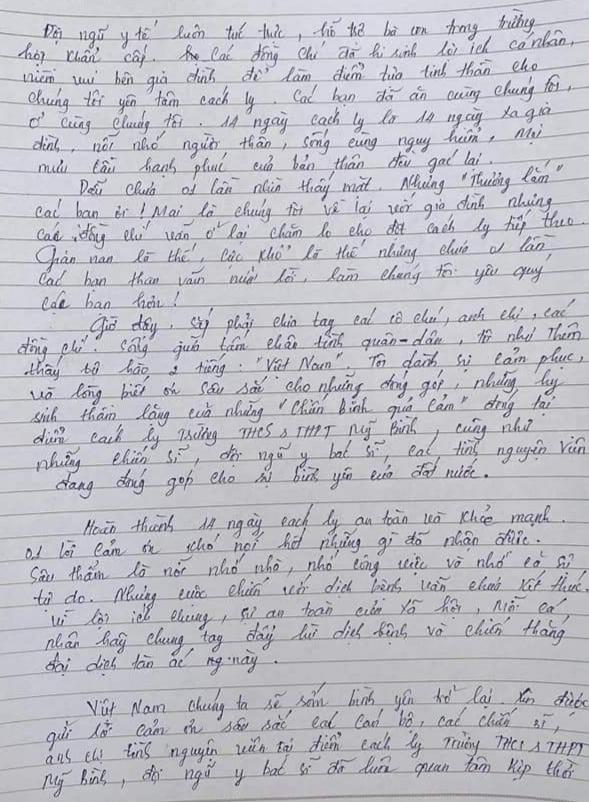text: (15, 318, 583, 365), (25, 71, 575, 117), (35, 568, 588, 613), (33, 208, 580, 252), (42, 705, 554, 752), (41, 755, 582, 798), (87, 295, 577, 342), (41, 616, 571, 659), (33, 436, 588, 477), (87, 679, 589, 724), (34, 232, 558, 275), (19, 27, 576, 67), (24, 367, 564, 408), (38, 5, 537, 49), (37, 253, 553, 295), (41, 730, 589, 769), (24, 53, 541, 94), (22, 346, 577, 384), (77, 159, 567, 202), (48, 593, 571, 633), (23, 390, 559, 428), (27, 551, 576, 587), (31, 123, 551, 161), (24, 98, 554, 135), (29, 414, 535, 452), (52, 457, 489, 501), (81, 502, 556, 539), (23, 527, 532, 561), (32, 189, 556, 221), (35, 147, 486, 182), (42, 646, 273, 675), (39, 289, 181, 317)
